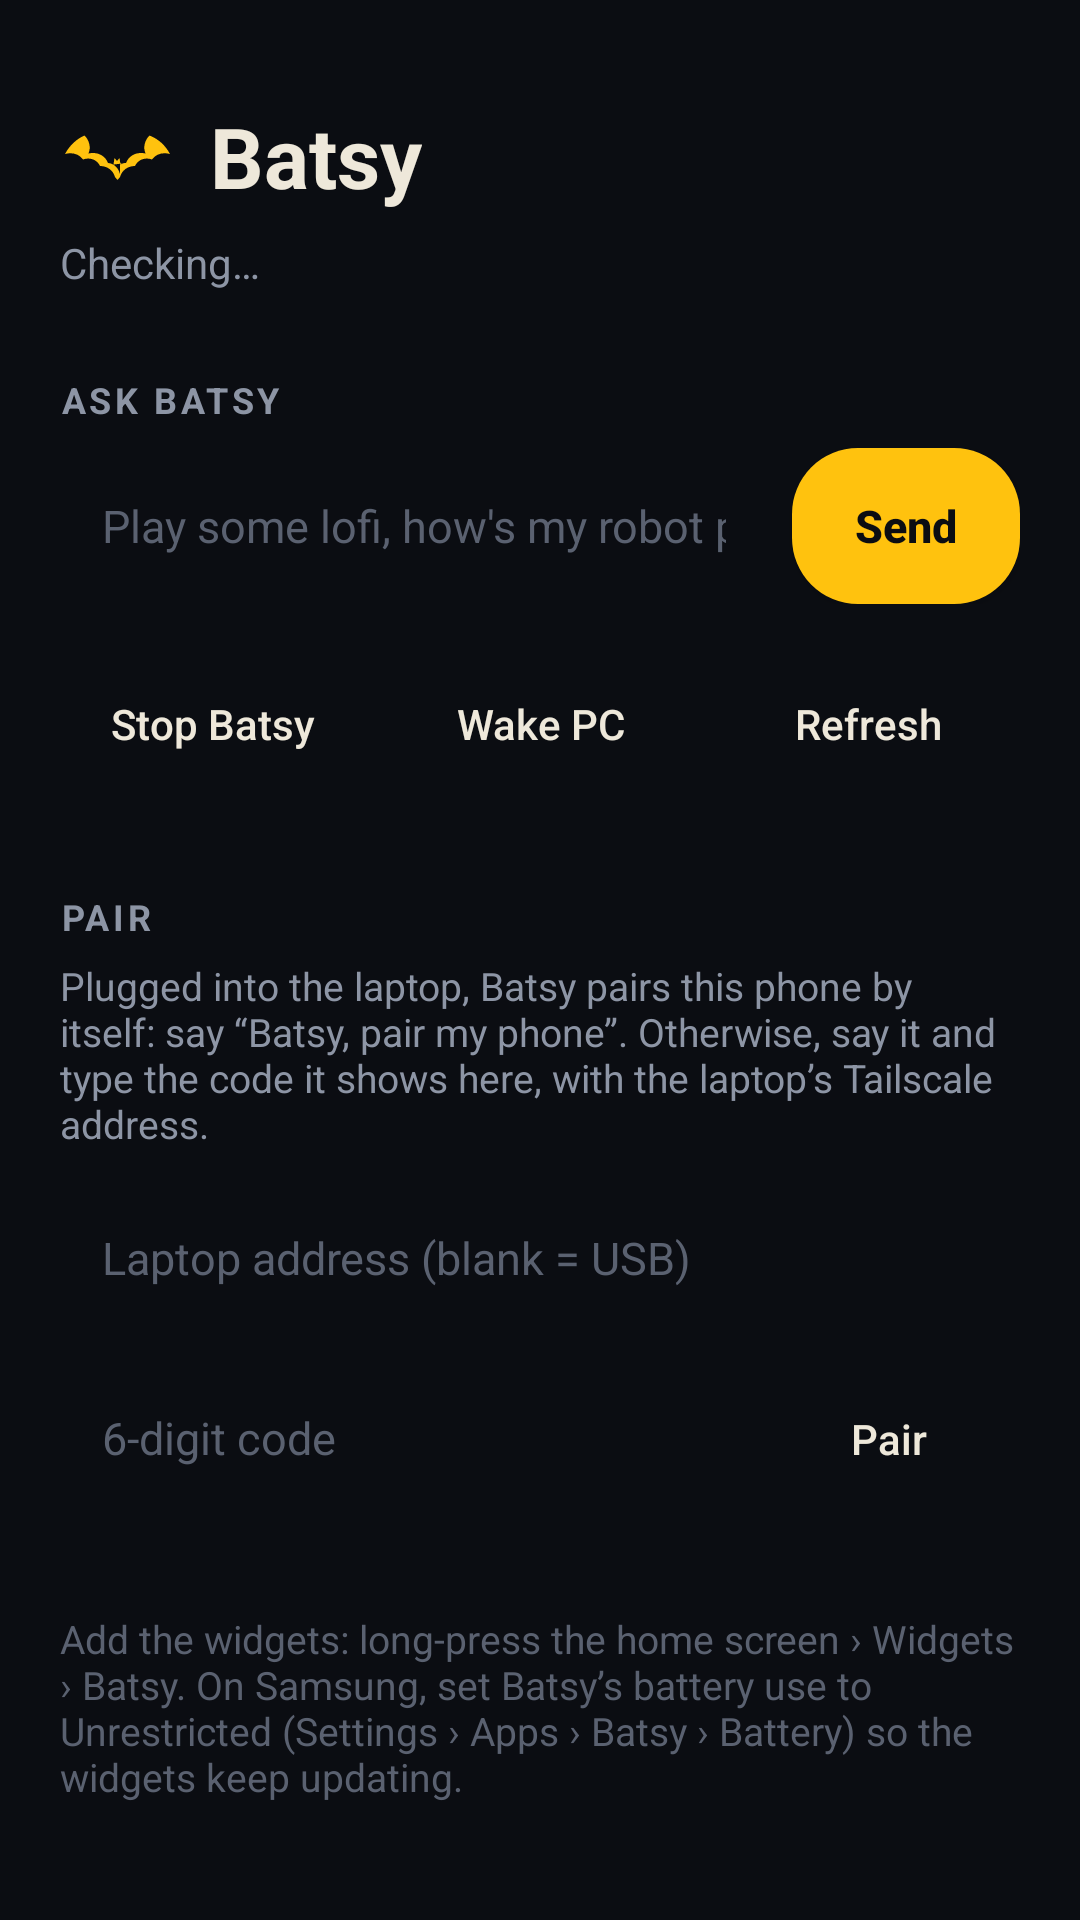

Icons on this 1080x1920 Android screen, each with the point to tap as (x,y):
bat: (117,157)
